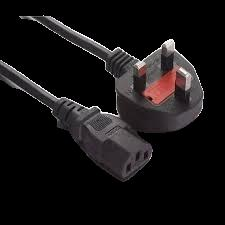cable: (0, 16, 205, 182)
